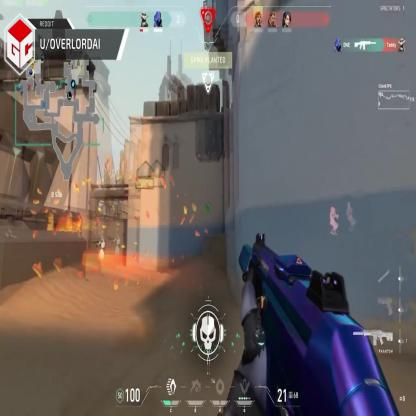enemy: (330, 206, 338, 235)
enemy_head: (331, 207, 336, 214)
